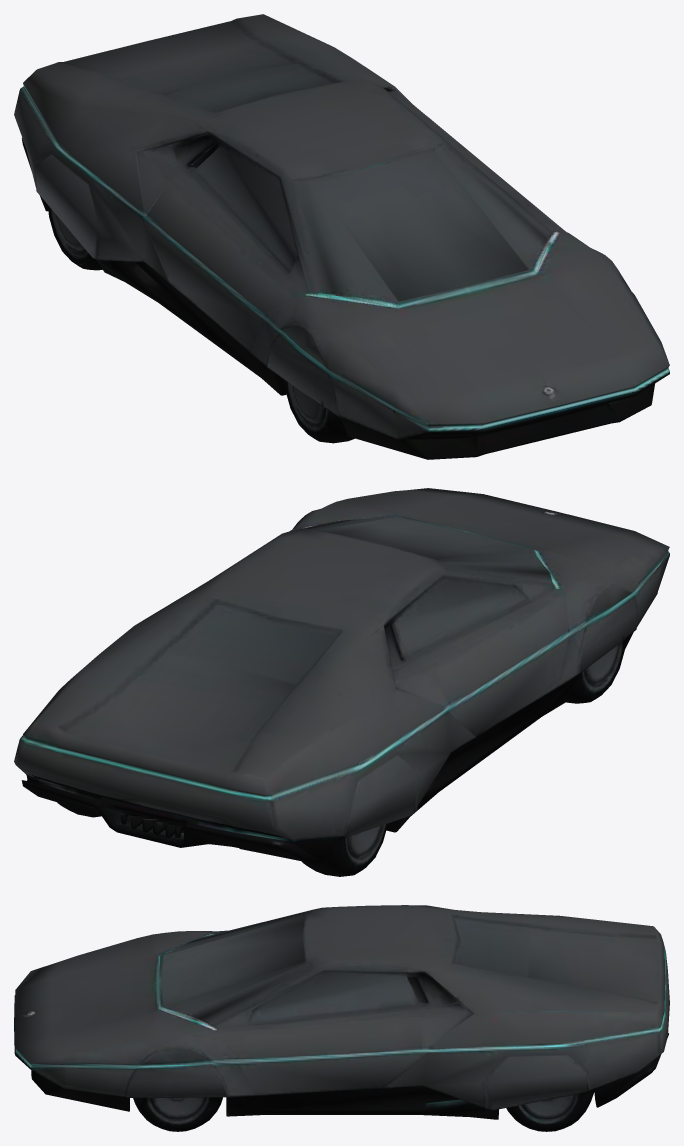
Rendered from wedge.glb.
3 renders of one model, top to bottom at view 1: azimuth 30°, elevation 25°; view 2: azimuth 150°, elevation 25°; view 3: azimuth 270°, elevation 25°, orthographic. The views are drawn at different scales.
Visible parts, largest first — view 1: material; view 2: material; view 3: material.
Boxes of the visible parts, x1=… form: material: x1=14, y1=14, x2=669, y2=459; material: x1=14, y1=488, x2=669, y2=876; material: x1=14, y1=905, x2=669, y2=1131.
Size of the model in its own units: 0.8377 by 0.4746 by 1.9.
Materials: 1 (1 with a texture image).
